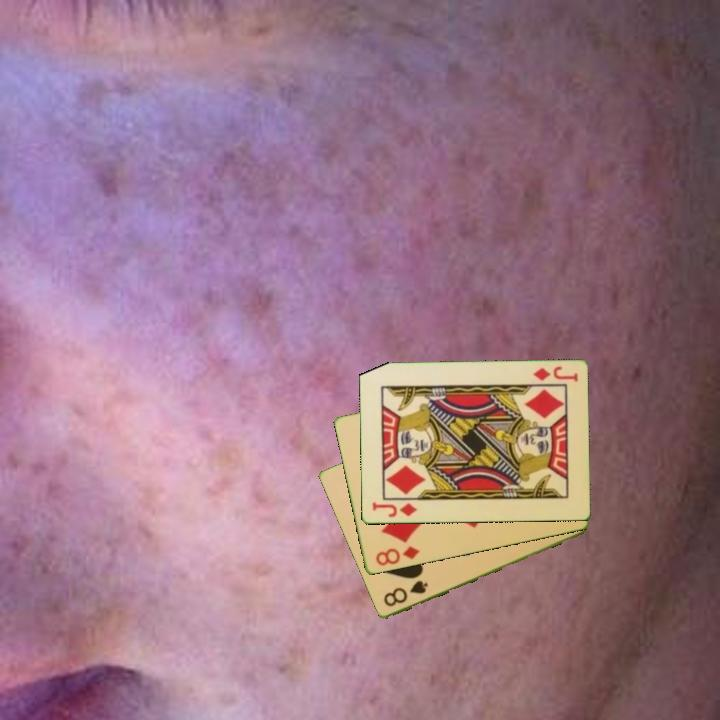8d: (372, 543, 422, 569)
8s: (380, 577, 431, 610)
Jd: (529, 363, 580, 385), (369, 499, 420, 520)
